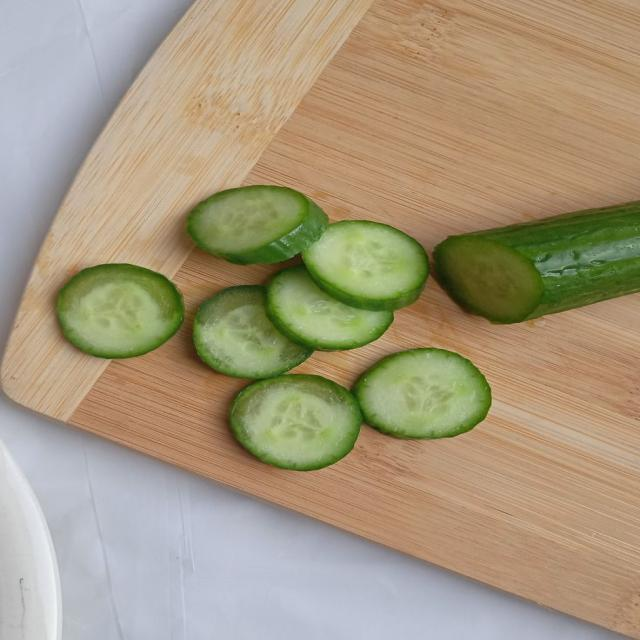cucumber sliced: (434, 202, 639, 323), (230, 375, 361, 471), (354, 349, 491, 438), (57, 264, 183, 358), (303, 221, 428, 310), (194, 286, 312, 378), (188, 186, 327, 264), (267, 265, 393, 350)
